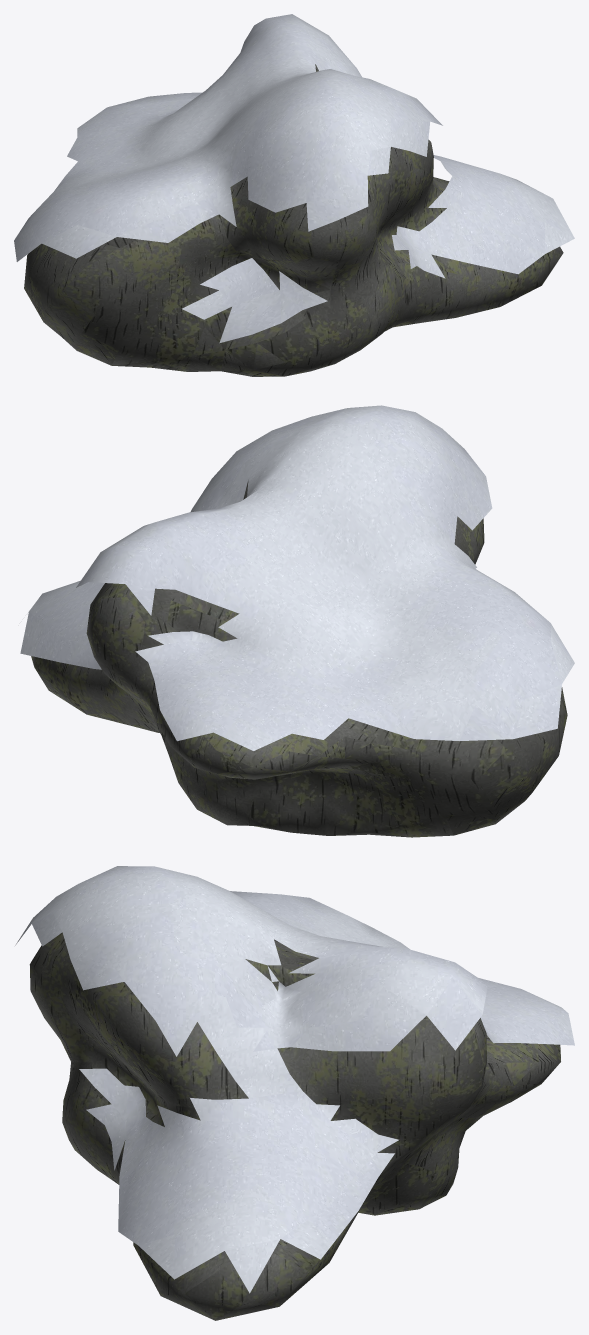
The model's file is rock_snow.glb.
3 renders of one model, top to bottom at view 1: azimuth 30°, elevation 25°; view 2: azimuth 150°, elevation 25°; view 3: azimuth 270°, elevation 25°, orthographic. The views are drawn at different scales.
Parts seen in each view (by area): view 1: RockSnow; view 2: RockSnow; view 3: RockSnow.
Part boxes in pixels (x1=…): RockSnow: x1=14, y1=14, x2=574, y2=376; RockSnow: x1=20, y1=405, x2=574, y2=837; RockSnow: x1=15, y1=866, x2=574, y2=1320.
Size of the model in its own units: 1.84 by 0.9321 by 1.49.
2 materials, 2 textured.
